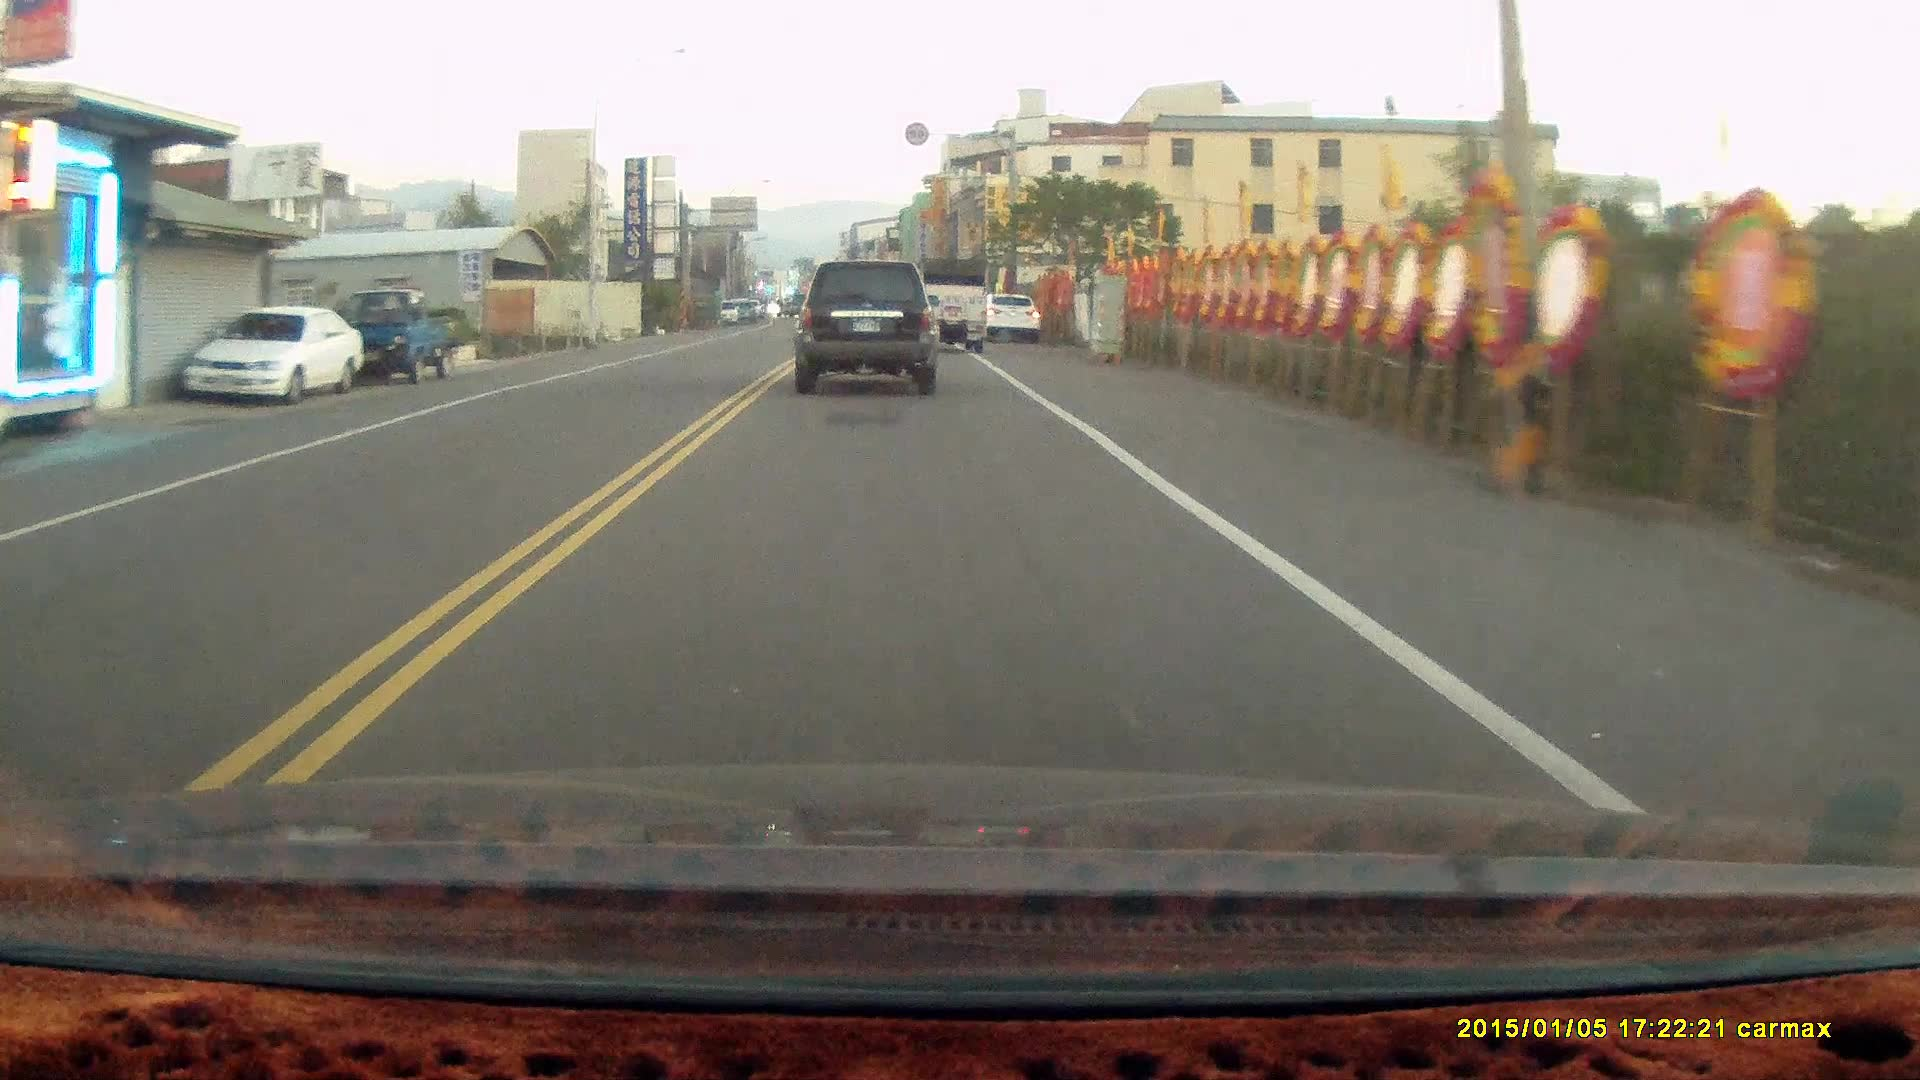vehicle: (796, 255, 944, 393), (182, 305, 364, 405), (338, 290, 462, 385), (916, 256, 993, 351), (982, 287, 1040, 343)
